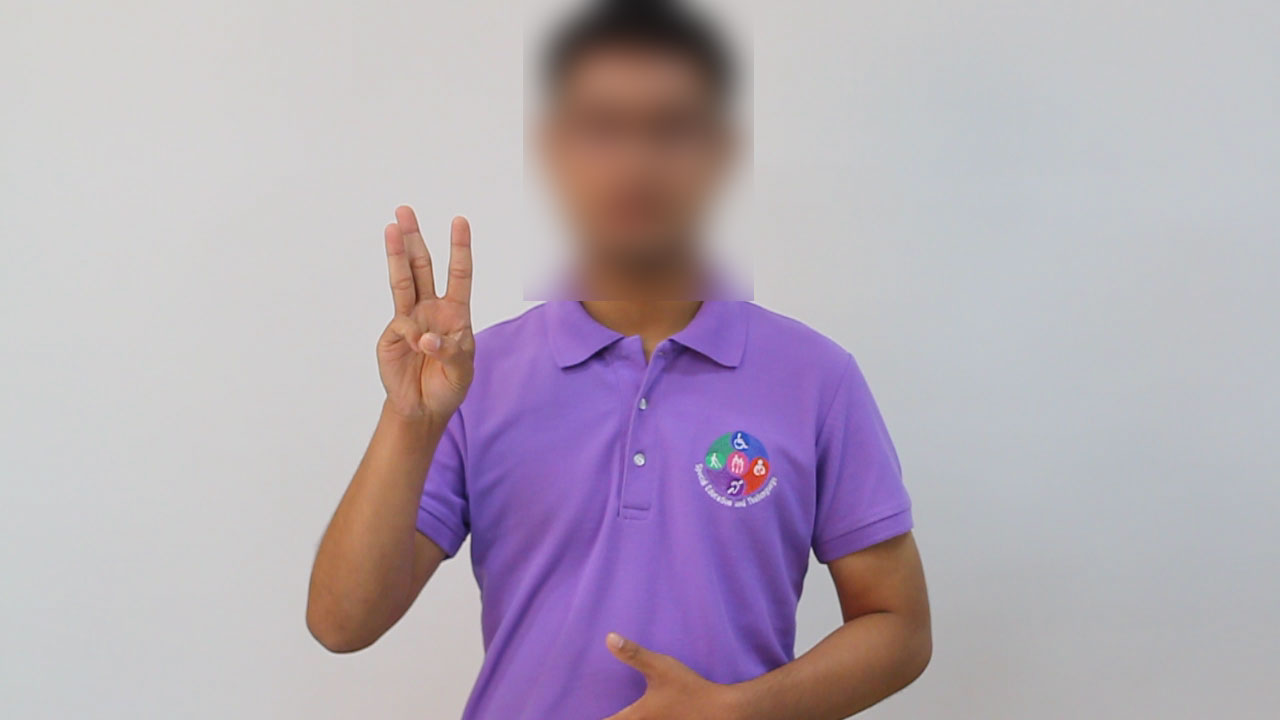wor: (366, 197, 481, 429)
